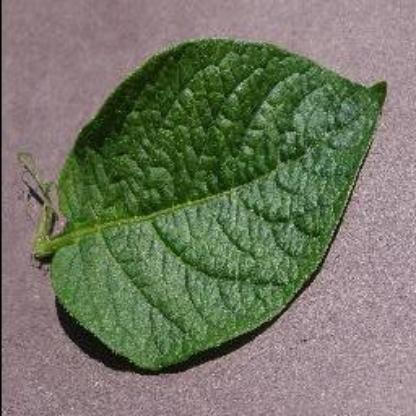Healthy-plant: (35, 32, 389, 374)
